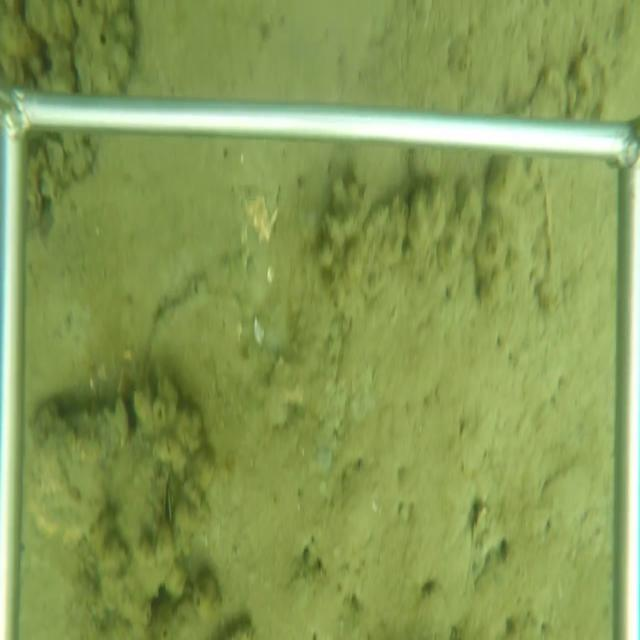Oyster-Open: (160, 477, 175, 528)
